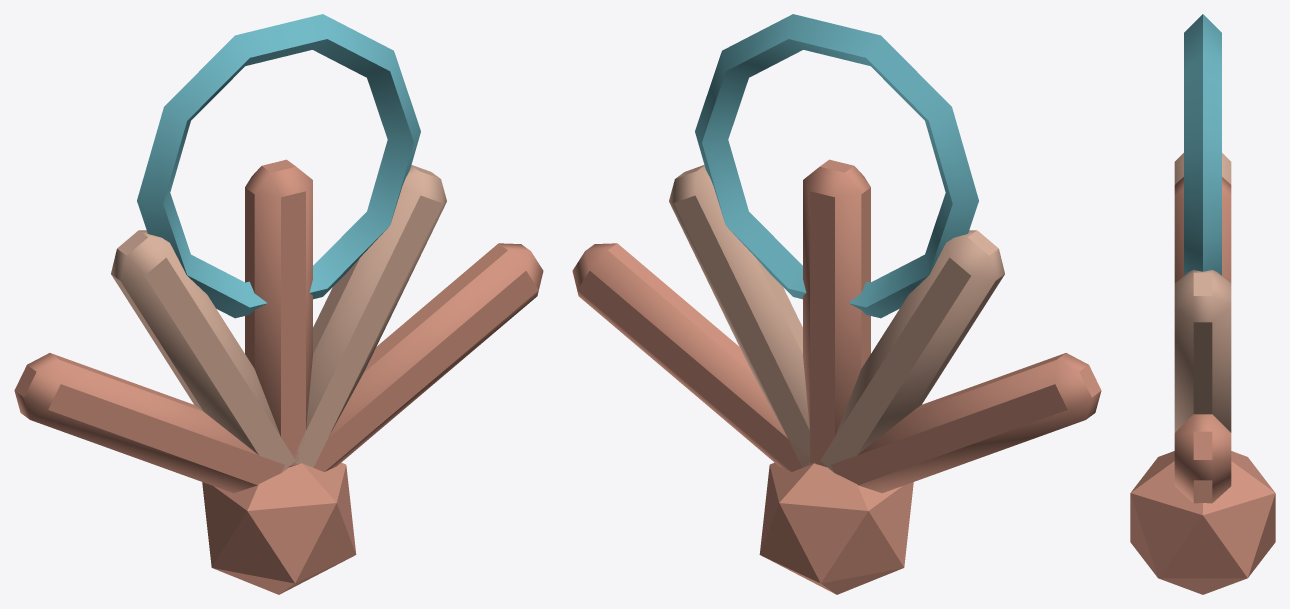
The model's file is gear_tiefsee_charm.glb.
3 views of the same model, side by side, from view 1: azimuth 30°, elevation 25°; view 2: azimuth 150°, elevation 25°; view 3: azimuth 270°, elevation 25° (orthographic).
Parts seen in each view (by area): view 1: body; view 2: body; view 3: body.
Boxes of the visible parts, x1,y1,x2,y2 form: body: (14, 14, 543, 594); body: (572, 14, 1101, 594); body: (1130, 14, 1275, 594).
Size of the model in its own units: 0.1242 by 0.1303 by 0.0306.
